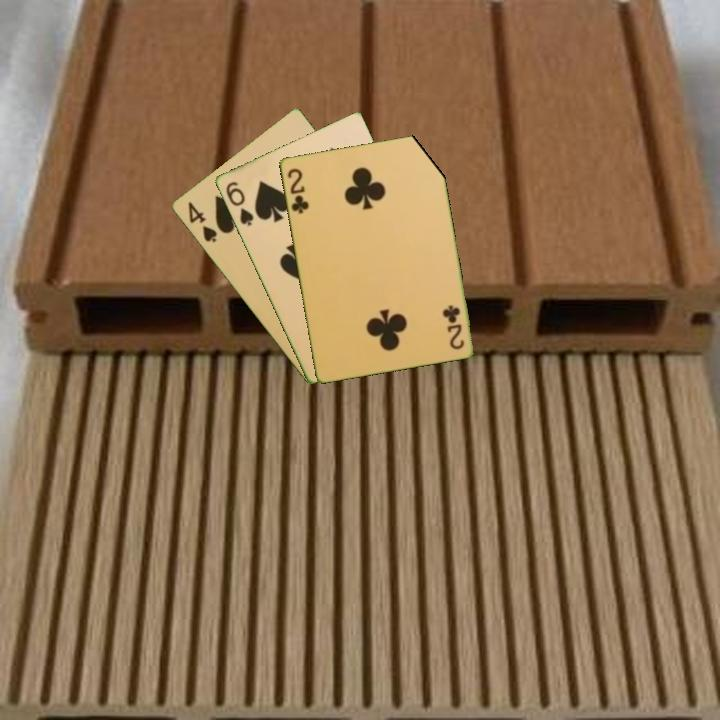2c: (284, 164, 311, 216), (440, 301, 467, 352)
4s: (184, 198, 220, 245)
6s: (222, 178, 256, 229)
